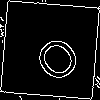O: (25, 25, 85, 86)
